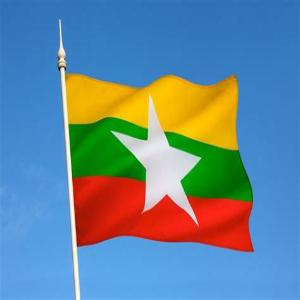Myanmar: (58, 74, 260, 256)
